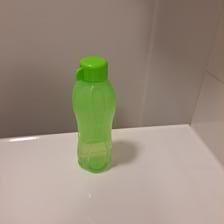bottle: (70, 54, 122, 172)
